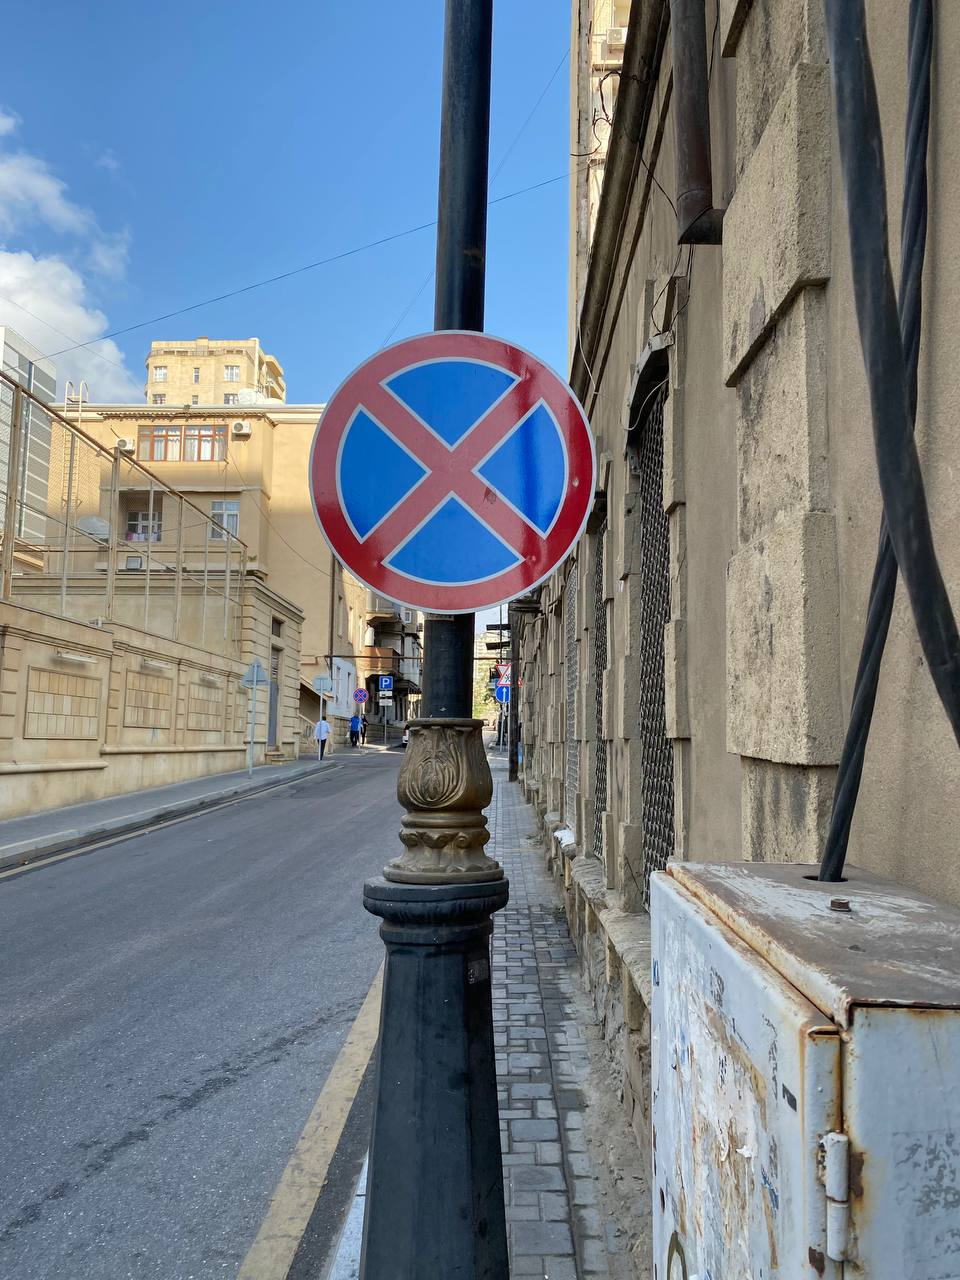No Parking: (308, 330, 597, 615)
